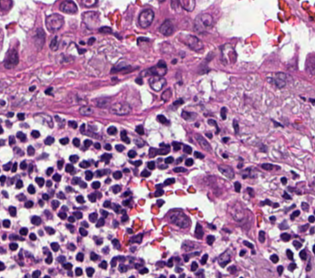nucleus: (179, 34, 203, 51), (193, 13, 213, 32), (169, 210, 189, 227), (220, 44, 236, 63), (46, 14, 63, 31), (138, 9, 153, 27), (229, 202, 243, 220), (83, 12, 98, 28), (149, 76, 165, 91), (110, 103, 130, 115), (195, 134, 210, 150), (269, 73, 286, 87), (159, 19, 173, 35), (33, 29, 44, 48), (59, 1, 76, 13), (218, 166, 234, 178), (179, 0, 194, 11), (111, 62, 126, 72), (94, 98, 110, 107), (208, 119, 219, 132), (161, 88, 171, 101), (181, 110, 195, 119), (79, 106, 92, 115), (120, 130, 129, 143), (195, 223, 202, 238), (101, 153, 111, 163), (130, 234, 142, 242), (182, 241, 194, 249), (98, 26, 111, 33), (50, 37, 57, 50), (81, 0, 96, 6), (157, 115, 168, 123), (261, 163, 273, 170), (35, 177, 44, 186), (290, 210, 299, 219), (173, 98, 183, 106), (31, 216, 41, 224), (258, 231, 265, 242), (220, 107, 226, 119), (107, 126, 116, 134), (44, 136, 53, 144), (51, 200, 59, 209), (111, 204, 120, 212), (281, 233, 290, 241), (243, 241, 253, 248), (158, 148, 169, 154), (96, 170, 107, 176), (31, 130, 39, 138), (172, 142, 180, 150), (183, 145, 191, 153), (149, 148, 157, 156), (65, 164, 73, 172), (113, 171, 121, 179), (112, 185, 120, 193), (76, 195, 84, 203), (96, 218, 104, 226), (79, 227, 87, 235), (136, 125, 143, 134), (115, 144, 124, 151), (194, 151, 203, 158), (69, 155, 78, 162), (164, 156, 173, 163), (80, 161, 89, 168), (141, 170, 150, 177), (154, 189, 163, 196), (73, 211, 82, 218), (89, 212, 96, 221), (299, 224, 308, 231), (45, 227, 54, 234), (207, 235, 214, 244), (233, 120, 238, 132), (131, 160, 141, 166), (173, 167, 185, 172), (164, 178, 174, 184), (234, 181, 240, 191), (68, 121, 76, 128), (60, 137, 68, 144), (84, 139, 91, 147), (147, 161, 154, 169), (85, 171, 92, 179), (71, 177, 79, 184), (92, 181, 100, 188), (283, 191, 290, 199), (301, 202, 308, 210), (100, 209, 108, 216), (58, 212, 66, 219), (66, 224, 73, 232), (293, 241, 301, 248), (247, 187, 253, 196), (261, 199, 271, 204), (135, 77, 142, 84), (45, 87, 52, 94), (128, 150, 135, 157), (185, 158, 192, 165), (53, 174, 60, 181), (88, 194, 95, 201), (103, 200, 110, 207), (121, 214, 128, 221), (68, 215, 75, 222), (29, 233, 36, 240), (77, 47, 85, 53), (73, 138, 79, 146), (46, 167, 52, 175), (112, 239, 118, 247), (160, 143, 169, 148), (88, 37, 94, 44), (79, 181, 86, 187), (123, 190, 130, 196), (57, 192, 64, 198), (123, 199, 130, 205), (45, 210, 51, 217), (308, 215, 314, 222), (81, 221, 88, 227), (58, 160, 63, 168), (94, 142, 100, 148), (105, 144, 111, 150), (157, 200, 163, 206), (281, 177, 286, 184), (46, 180, 51, 187), (65, 186, 72, 191), (80, 124, 84, 132), (42, 194, 48, 199), (96, 239, 102, 244), (279, 224, 286, 228), (206, 133, 211, 138), (38, 200, 43, 205), (270, 216, 275, 221), (127, 228, 132, 233), (29, 86, 35, 90), (222, 137, 228, 141), (272, 203, 278, 207), (159, 165, 166, 168), (177, 157, 181, 162), (123, 168, 128, 172), (156, 184, 161, 188), (62, 206, 67, 210), (310, 227, 313, 233), (172, 59, 176, 63), (106, 178, 110, 182), (222, 154, 227, 157), (114, 221, 117, 226), (39, 230, 42, 235), (80, 41, 84, 44), (310, 99, 314, 102)
